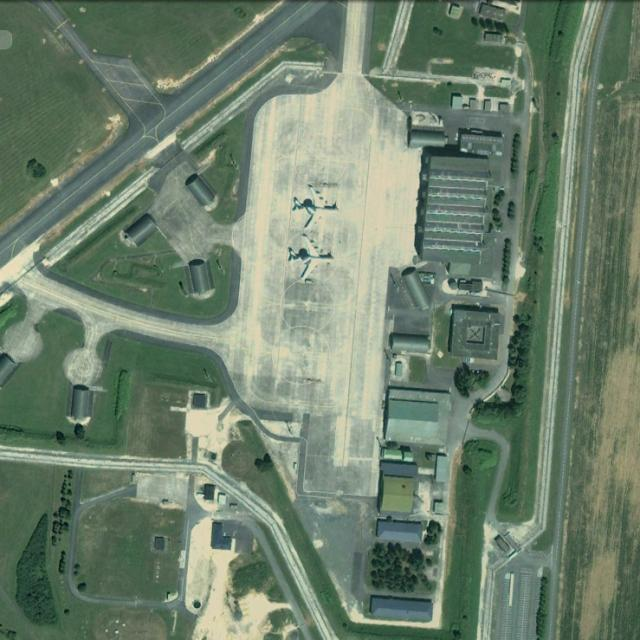fighter jet: (285, 235, 334, 282), (291, 188, 337, 228)
